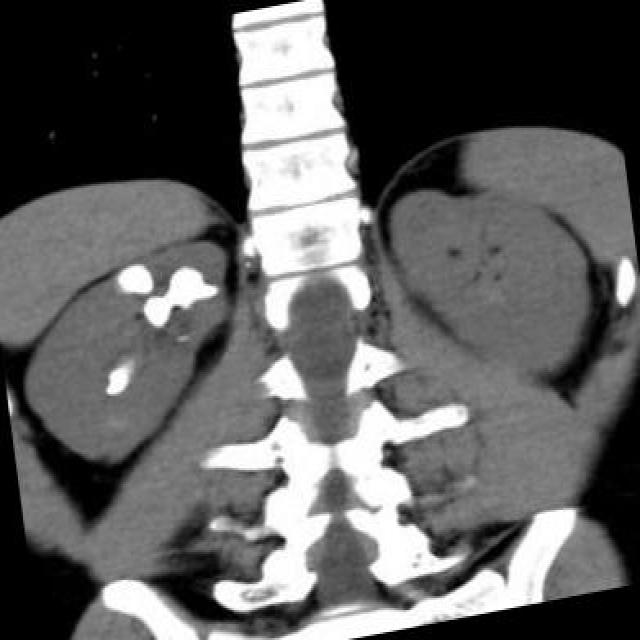Tas_Var: (135, 251, 222, 333), (107, 252, 160, 302), (98, 361, 131, 401), (173, 327, 189, 345)
